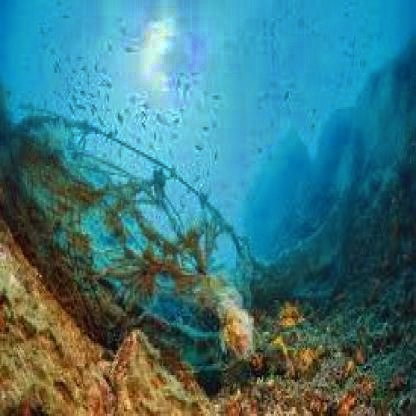net: (5, 111, 270, 366)
